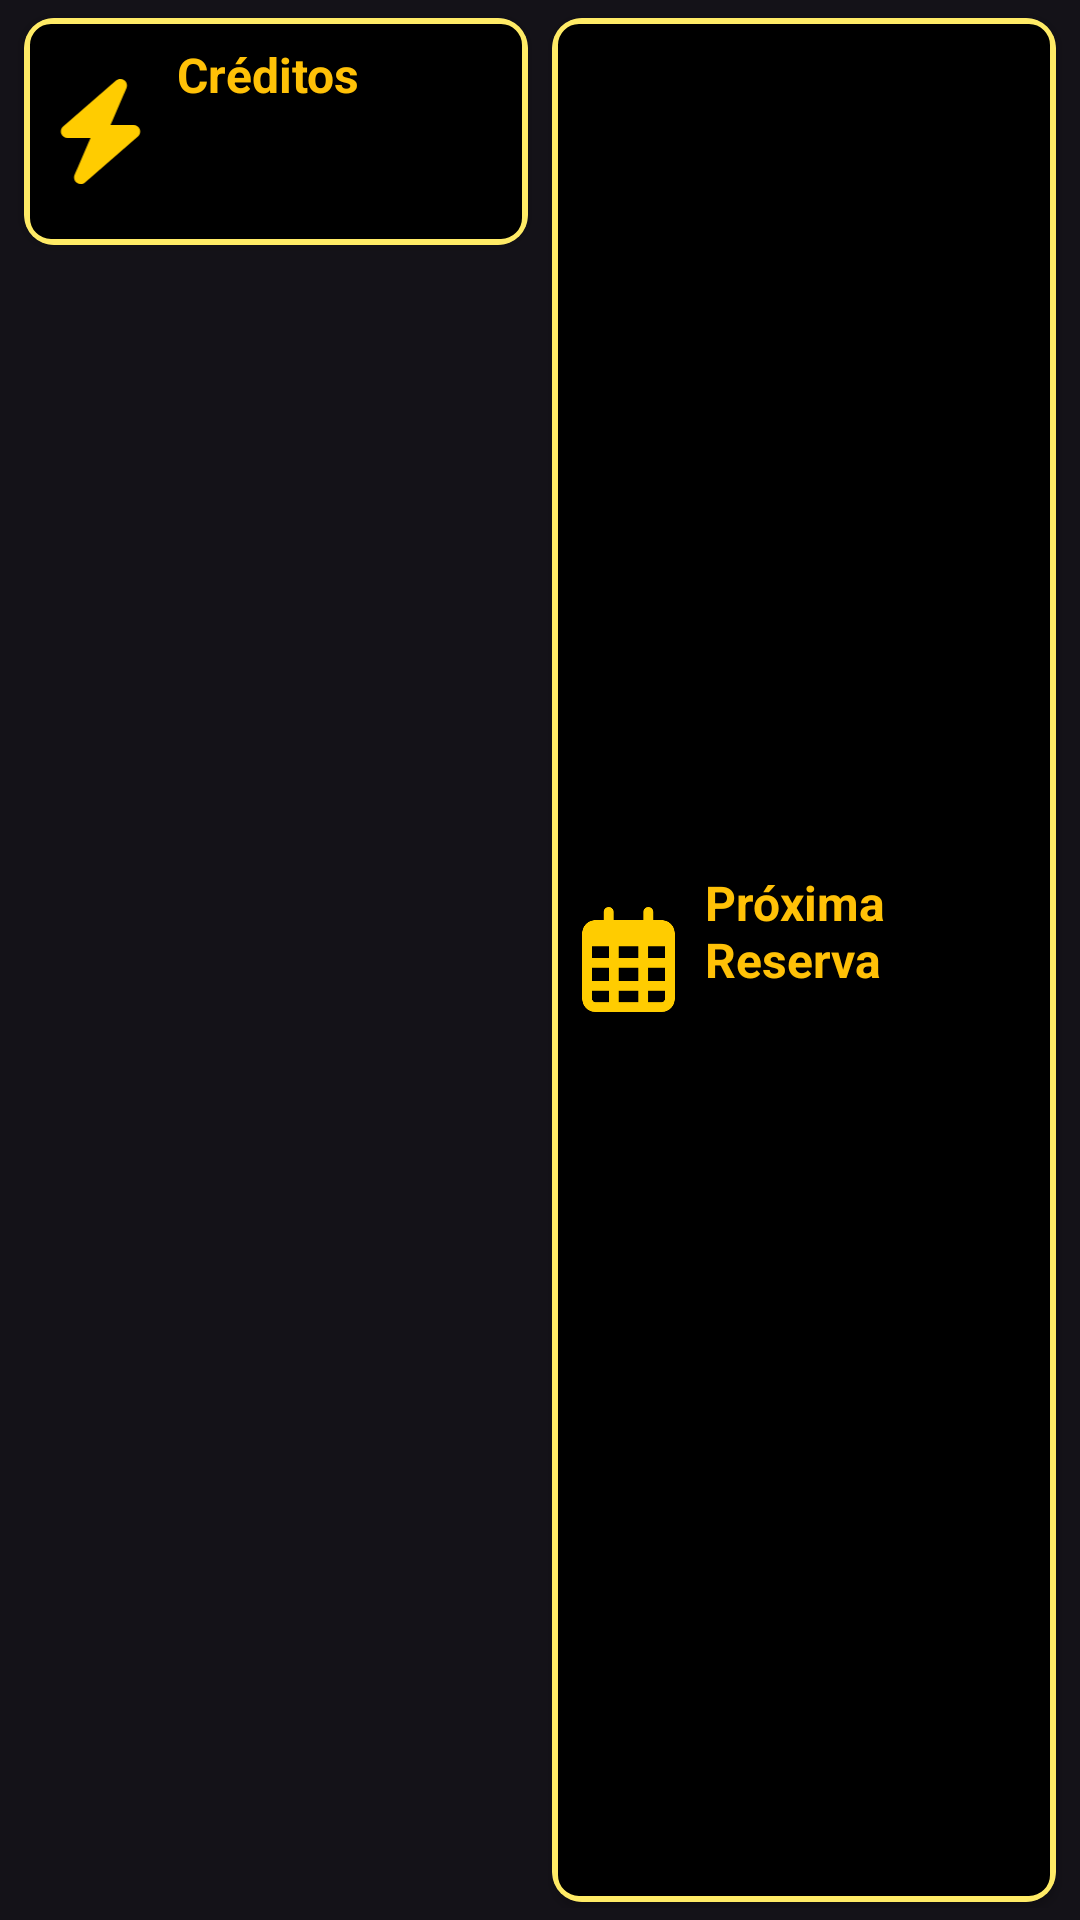

Where to tap for icons on this 1080×1920 app screen, as (x=x, y=y):
calendario amarillo intermedio: (x=628, y=959)
rayo amarillo intermedio: (x=100, y=131)
